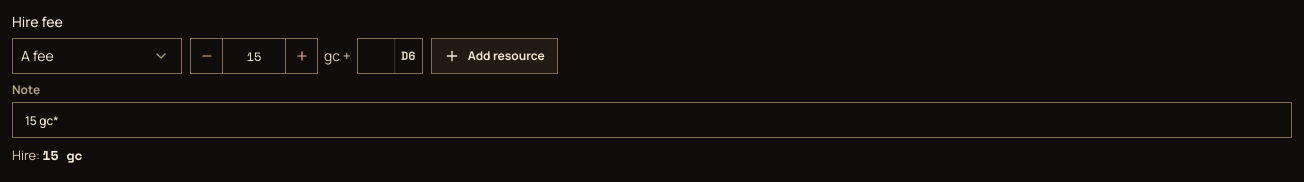
it: FeeEditor › asks how he is hired for a fee in his rules, and shows a fee's own note
Expected: the field labelled "Note" holds "15 gc*", [12,102,1292,138]
Select "See their rules" in the dropdown named "Hire fee kind" at point(97, 56), box [12,38,182,74]
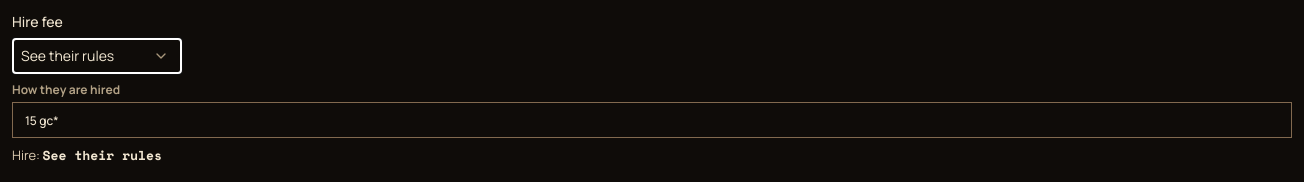
Expected: the field labelled "How they are hired" is shown, [12,102,1292,138]
Now the text "Hire: See their rules" is shown, box [12,145,162,165]
